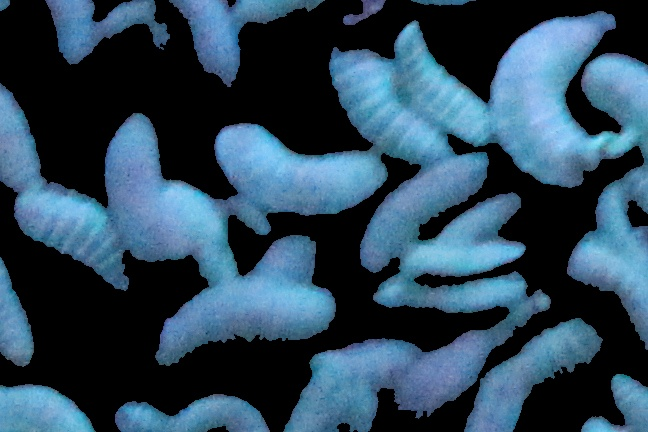larvae: (497, 9, 610, 188), (351, 154, 494, 271), (209, 123, 391, 214), (162, 284, 334, 363), (333, 64, 454, 167), (398, 21, 495, 144), (16, 186, 127, 287), (166, 180, 244, 282), (578, 46, 648, 158), (369, 274, 531, 318), (502, 320, 605, 383), (387, 234, 528, 279), (180, 1, 238, 104), (563, 236, 648, 305), (1, 81, 55, 186), (124, 121, 167, 251), (38, 1, 105, 84), (1, 374, 96, 432), (421, 195, 531, 243), (469, 358, 540, 431), (303, 341, 426, 382), (1, 254, 43, 366), (260, 226, 324, 285), (179, 395, 278, 432)
